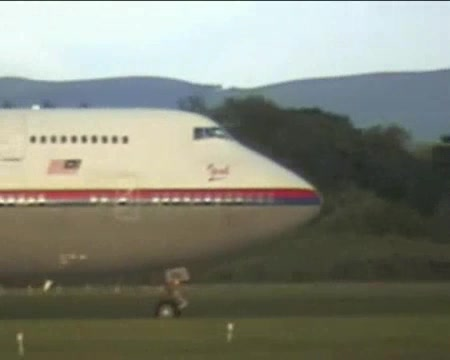aeroplane: (1, 107, 329, 320)
